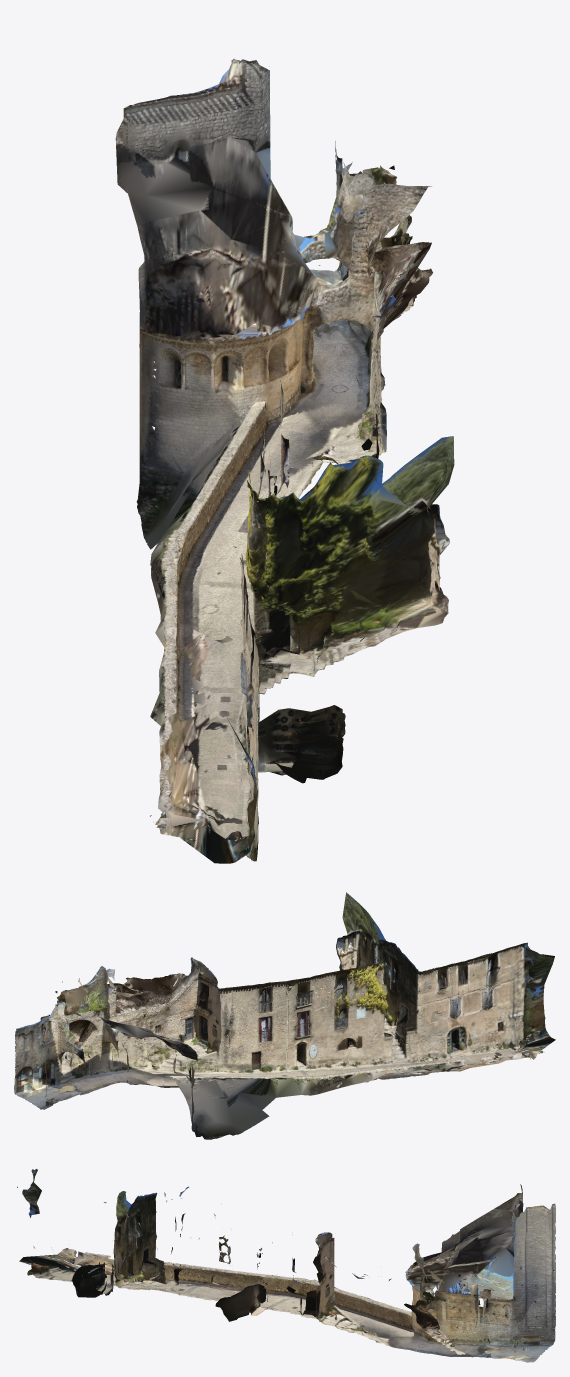
Rendered from medium.glb.
3 renders of one model, top to bottom at view 1: azimuth 30°, elevation 25°; view 2: azimuth 150°, elevation 25°; view 3: azimuth 270°, elevation 25°, orthographic. The views are drawn at different scales.
Parts seen in each view (by area): view 1: medium.022; view 2: medium.022; view 3: medium.022.
Boxes of the visible parts, <box> form: medium.022: <box>115,59,454,863</box>; medium.022: <box>14,892,555,1139</box>; medium.022: <box>17,1169,555,1362</box>.
Size of the model in its own units: 28.33 by 16.02 by 39.81.
Materials: 1 (1 with a texture image).
